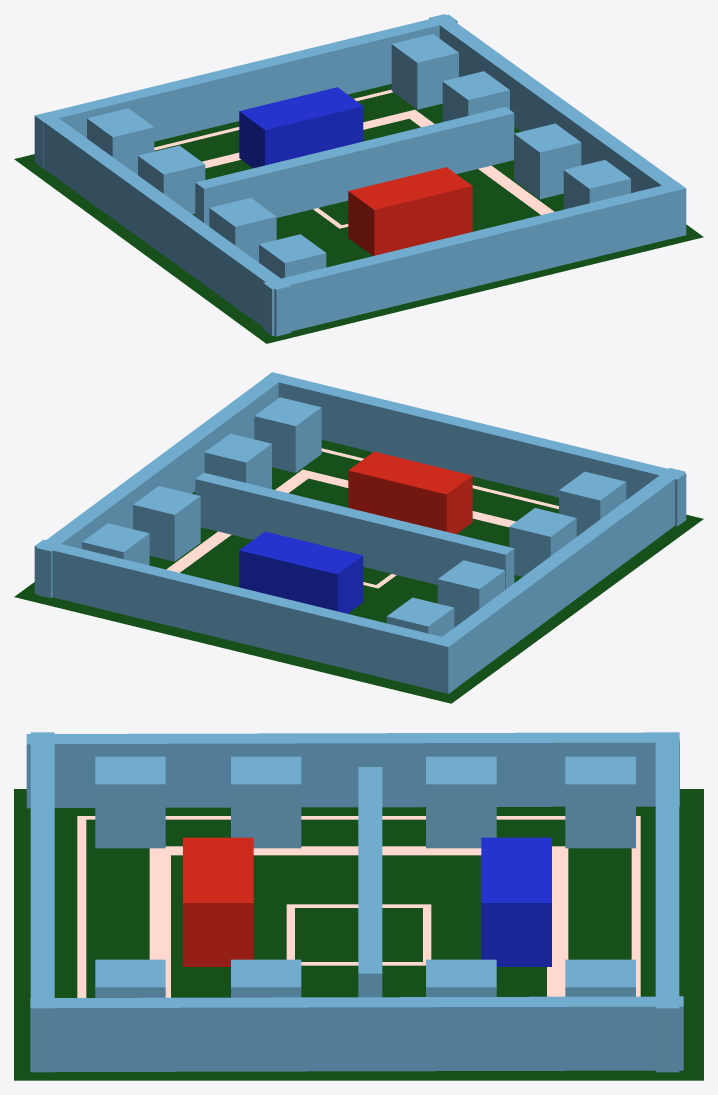
The model's file is pvp_map_for_game_fps.glb.
3 renders of one model, top to bottom at view 1: azimuth 30°, elevation 25°; view 2: azimuth 150°, elevation 25°; view 3: azimuth 270°, elevation 25°, orthographic. The views are drawn at different scales.
Parts seen in each view (by area): view 1: Cube.004_5, Plane_1, Cube.003_4, Cube.002_3, Cube.006_7, Cube.005_6, Cube.001_2, Cube_0, Cube.012_13, Cube.008_9, Cube.010_11, Cube.011_12 (+4 smaller); view 2: Cube.003_4, Plane_1, Cube.004_5, Cube.002_3, Cube.006_7, Cube.005_6, Cube.001_2, Cube_0, Cube.009_10, Cube.013_14, Cube.007_8, Cube.010_11 (+4 smaller); view 3: Plane_1, Cube.005_6, Cube.006_7, Cube_0, Cube.001_2, Cube.004_5, Cube.003_4, Cube.011_12, Cube.014_15, Cube.010_11, Cube.007_8, Cube.002_3 (+4 smaller).
Boxes of the visible parts, x1,y1,x2,y2 form: Cube.004_5: [263, 182, 686, 335]; Plane_1: [14, 84, 703, 343]; Cube.003_4: [34, 14, 457, 168]; Cube.002_3: [195, 107, 514, 226]; Cube.006_7: [37, 111, 291, 336]; Cube.005_6: [429, 14, 685, 238]; Cube.001_2: [348, 167, 472, 255]; Cube_0: [239, 87, 363, 168]; Cube.012_13: [391, 34, 458, 109]; Cube.008_9: [514, 123, 581, 199]; Cube.010_11: [138, 145, 205, 214]; Cube.011_12: [87, 108, 154, 174]; Cube.003_4: [34, 539, 457, 693]; Plane_1: [14, 440, 703, 703]; Cube.004_5: [264, 372, 686, 526]; Cube.002_3: [195, 472, 514, 589]; Cube.006_7: [433, 468, 684, 693]; Cube.005_6: [35, 372, 285, 598]; Cube.001_2: [348, 451, 472, 534]; Cube_0: [239, 531, 363, 613]; Cube.009_10: [133, 486, 200, 561]; Cube.013_14: [254, 397, 321, 472]; Cube.007_8: [509, 508, 576, 576]; Cube.010_11: [437, 560, 504, 627]; Plane_1: [14, 789, 703, 1080]; Cube.005_6: [30, 996, 683, 1071]; Cube.006_7: [26, 732, 679, 808]; Cube_0: [481, 837, 551, 966]; Cube.001_2: [183, 837, 253, 966]; Cube.004_5: [30, 732, 54, 1072]; Cube.003_4: [655, 732, 679, 1072]; Cube.011_12: [565, 756, 635, 848]; Cube.014_15: [95, 756, 165, 848]; Cube.010_11: [426, 756, 496, 848]; Cube.007_8: [231, 756, 301, 848]; Cube.002_3: [358, 767, 382, 997].
Size of the model in its own units: 19.54 by 2.02 by 19.54.
